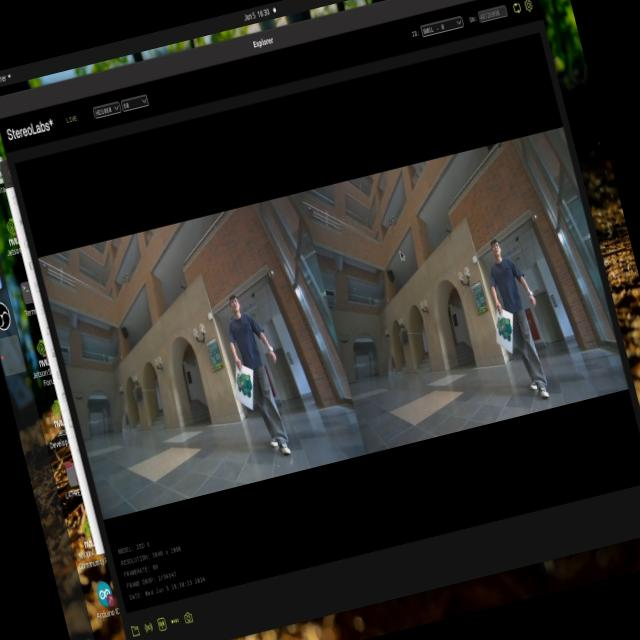green: (230, 362, 260, 406), (492, 310, 516, 350)
